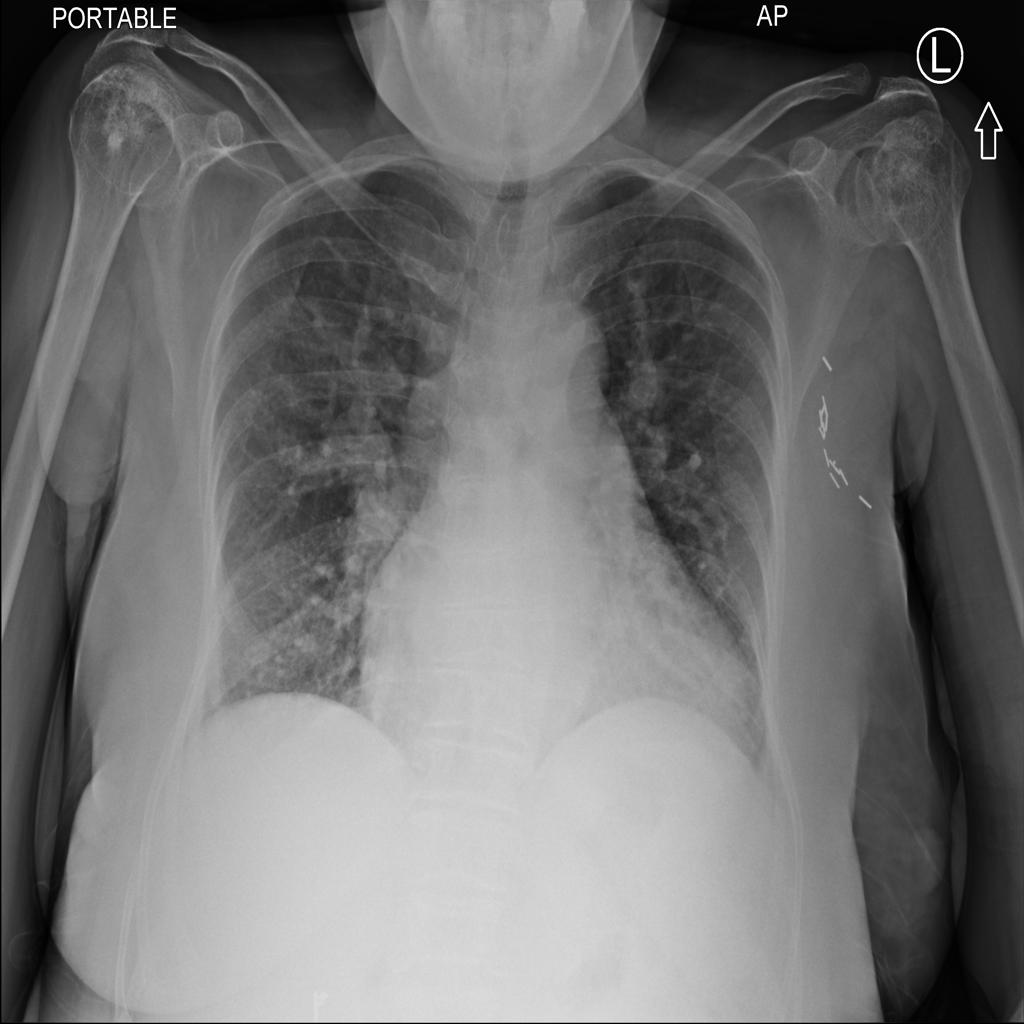Cardiomegaly: (363, 480, 764, 779)
